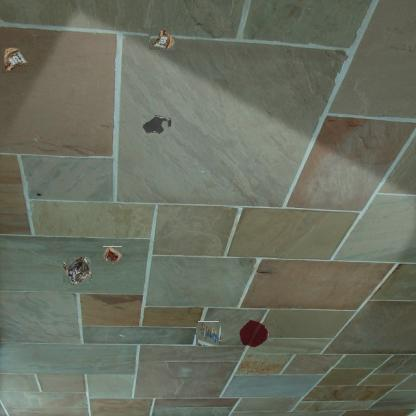dirty: (2, 47, 29, 73), (64, 258, 90, 284), (149, 26, 175, 50), (197, 322, 220, 346), (103, 245, 122, 264)
liquid: (238, 318, 270, 348), (142, 114, 172, 134)
